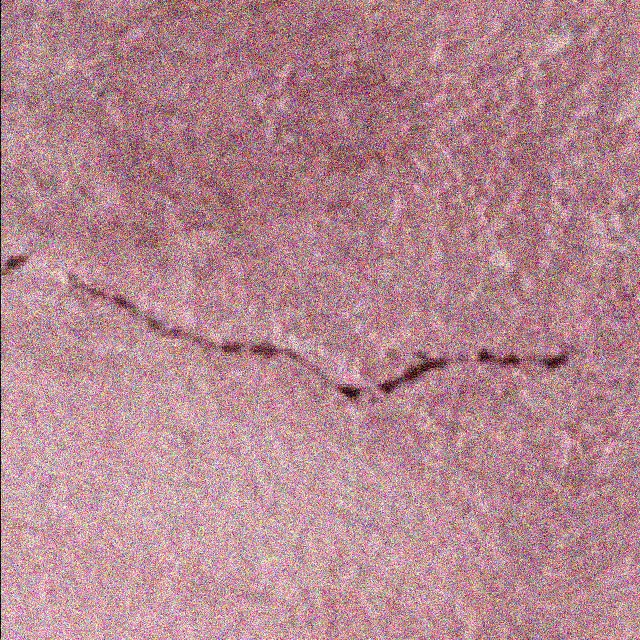SurfaceCrack: (0, 270, 586, 434)
